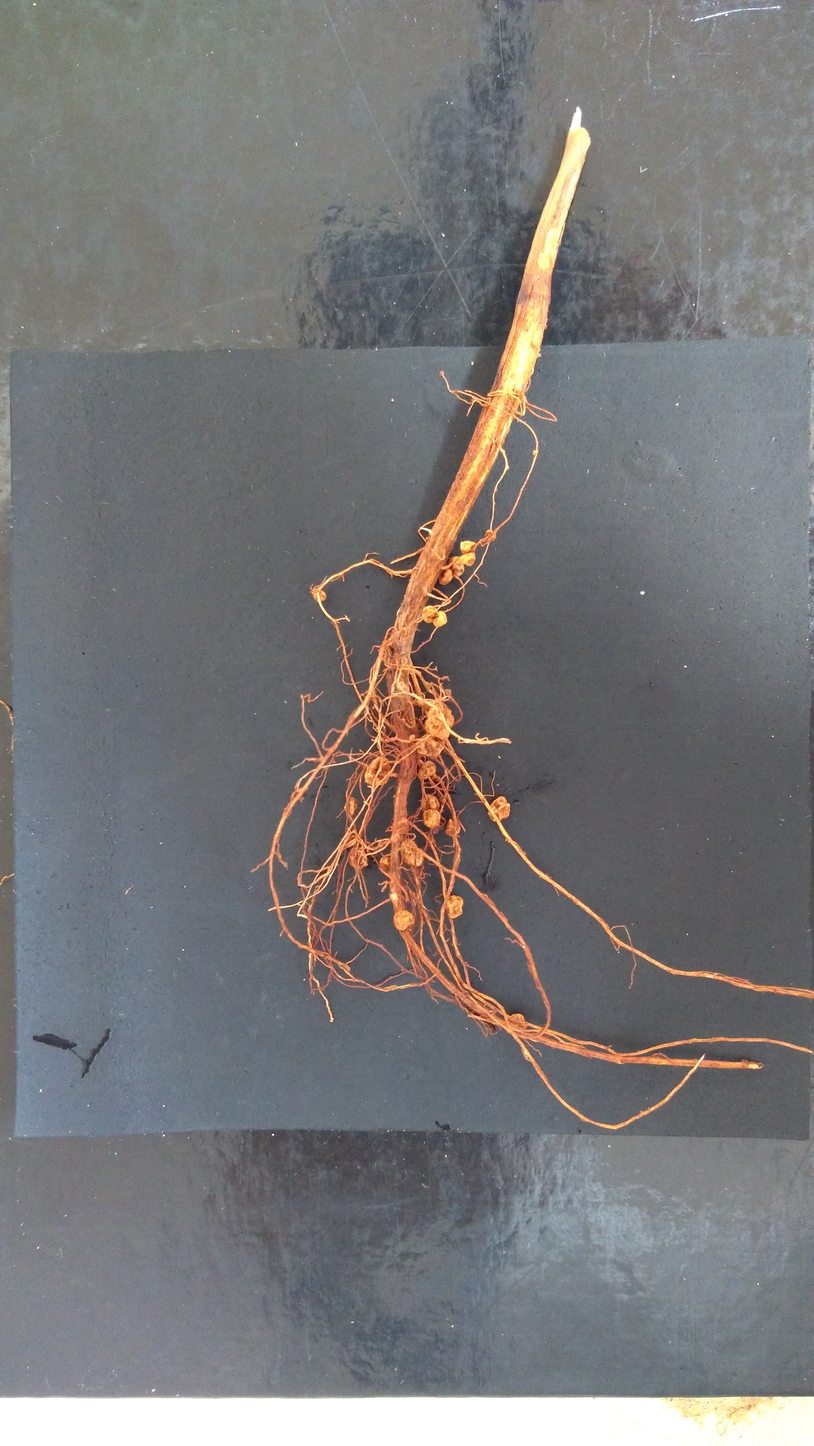nodule: (424, 703, 455, 740), (363, 756, 391, 787), (417, 734, 446, 759), (399, 838, 423, 868), (487, 795, 511, 823), (347, 846, 369, 869), (445, 894, 464, 920), (393, 909, 415, 931), (443, 817, 462, 839), (417, 760, 437, 780), (422, 809, 441, 828), (420, 604, 438, 624), (420, 794, 440, 812), (507, 1013, 527, 1031), (458, 552, 477, 568), (437, 567, 453, 585), (431, 611, 448, 627), (345, 797, 359, 815), (449, 563, 465, 578), (459, 540, 476, 554), (310, 589, 328, 602), (396, 680, 411, 694), (379, 856, 392, 872), (484, 529, 497, 543), (408, 734, 416, 741), (444, 689, 452, 695), (532, 450, 538, 455)
